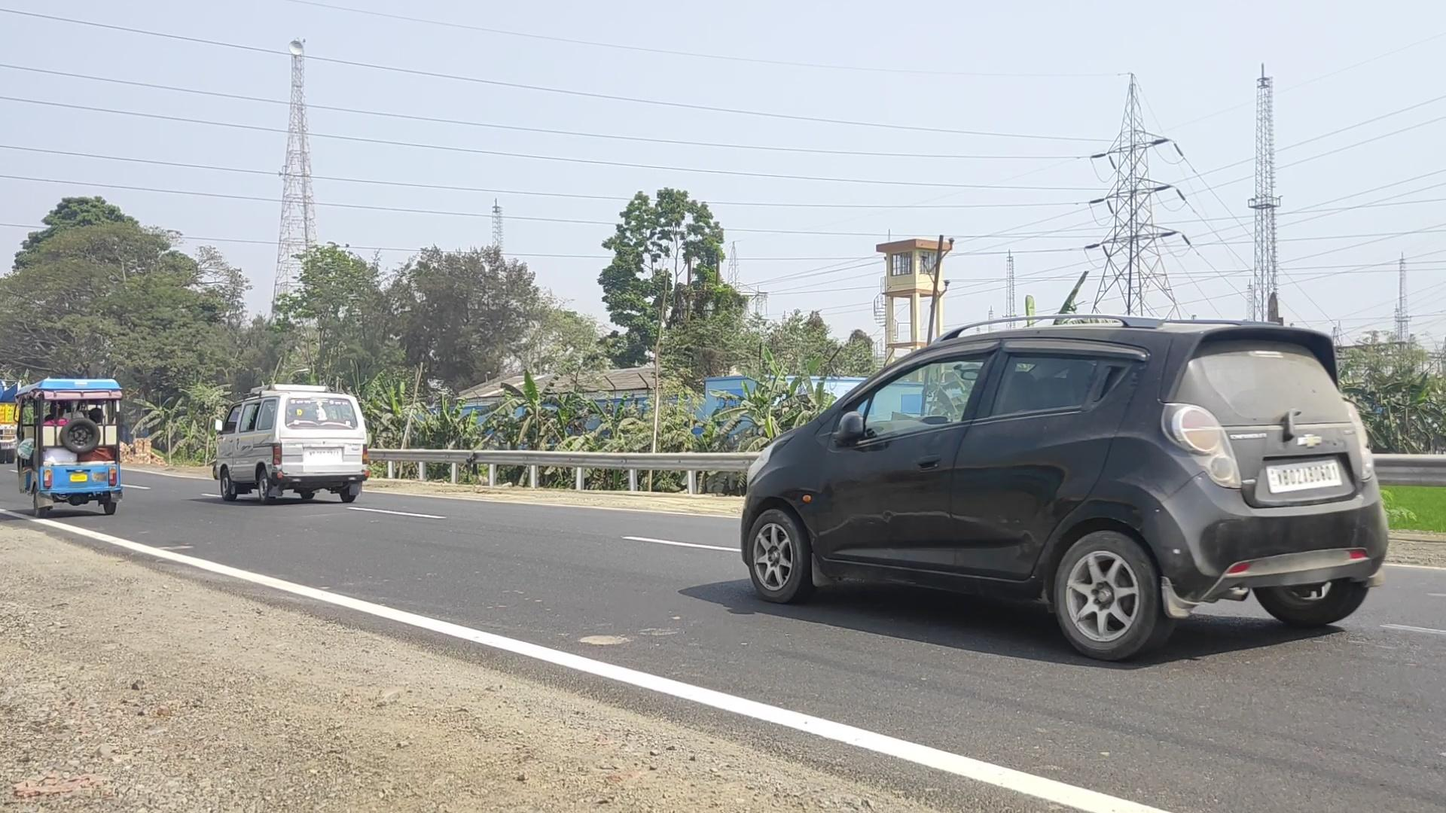Auto: (14, 376, 124, 518)
car: (740, 315, 1389, 662)
van: (213, 383, 371, 505)
